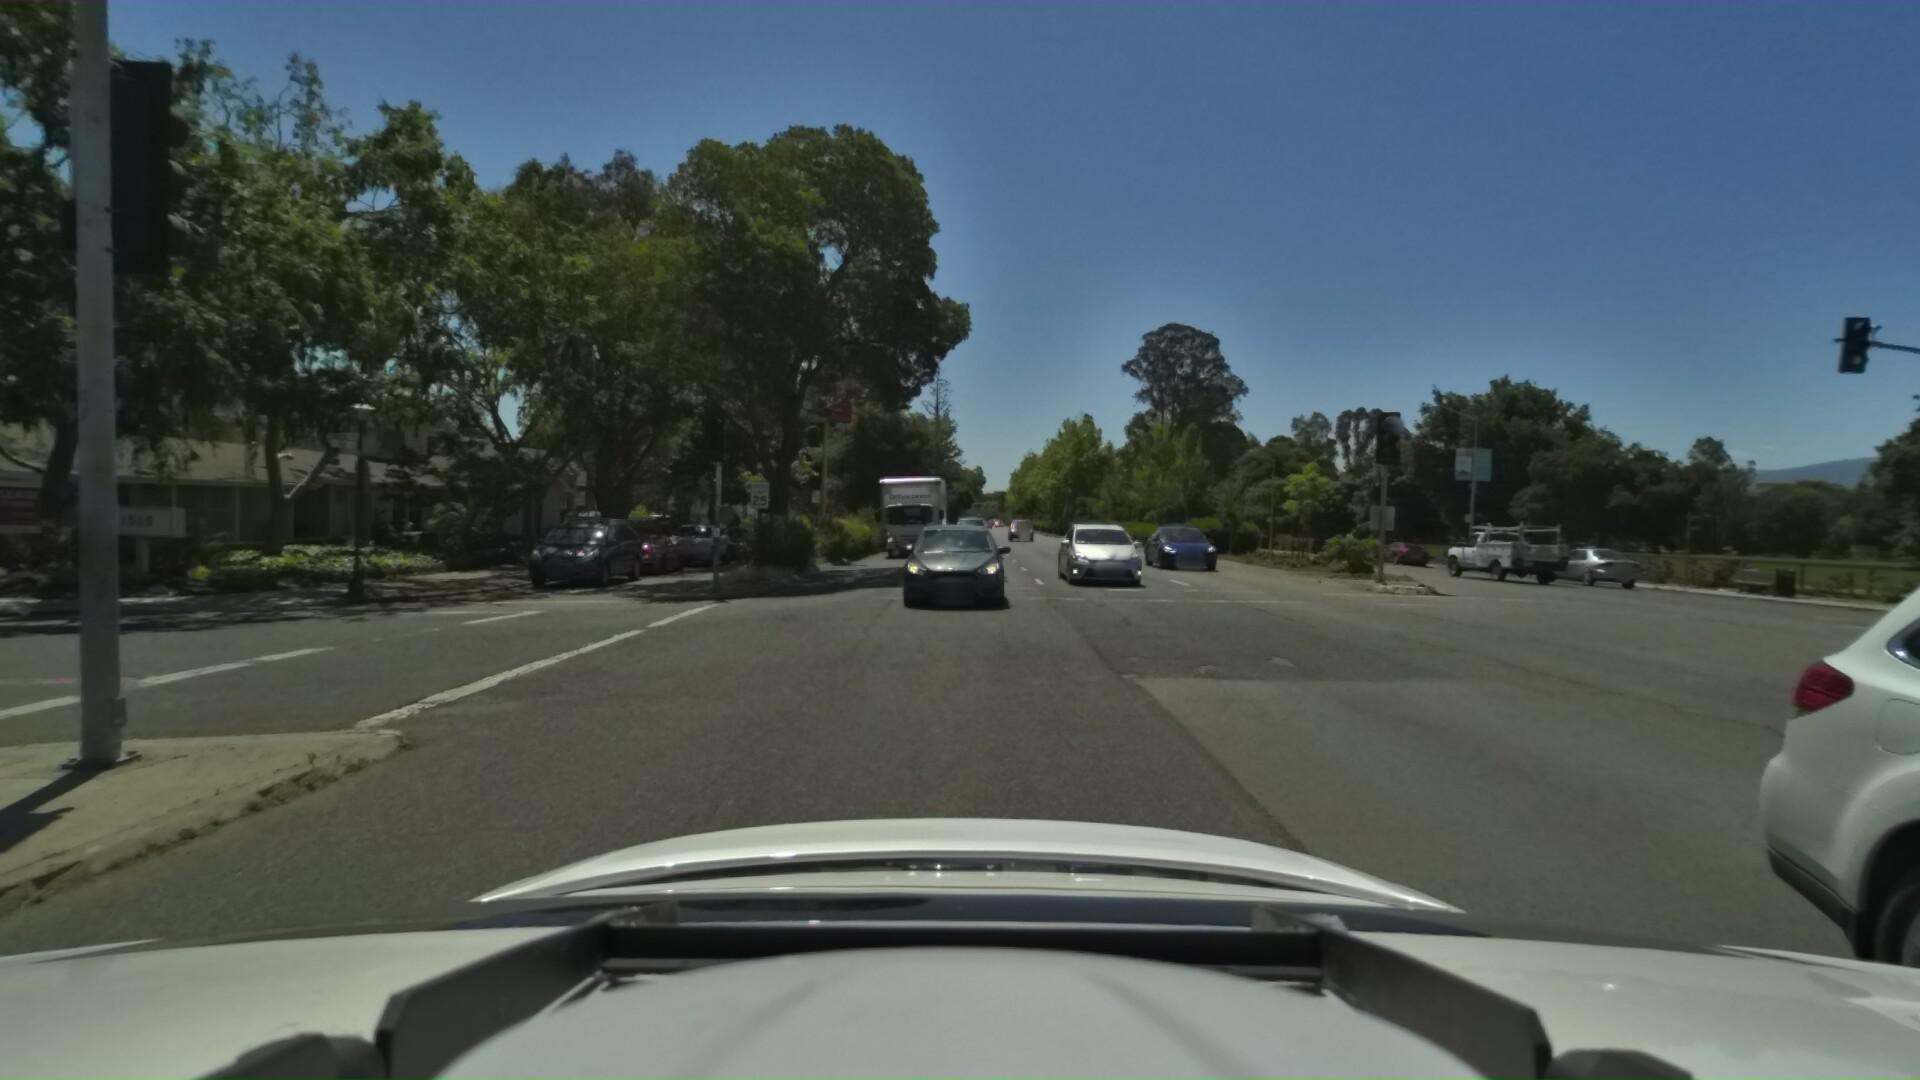car: (1511, 0, 1920, 1080), (1439, 516, 1575, 593), (895, 517, 1005, 612), (524, 516, 653, 589), (1044, 512, 1138, 583), (1531, 541, 1651, 585), (600, 527, 692, 576), (1133, 520, 1212, 568), (658, 521, 735, 567), (704, 527, 766, 564), (603, 514, 669, 549), (1367, 537, 1425, 567), (1004, 510, 1036, 539)
other_vehicle: (504, 502, 611, 545)
truck: (862, 467, 945, 556)
